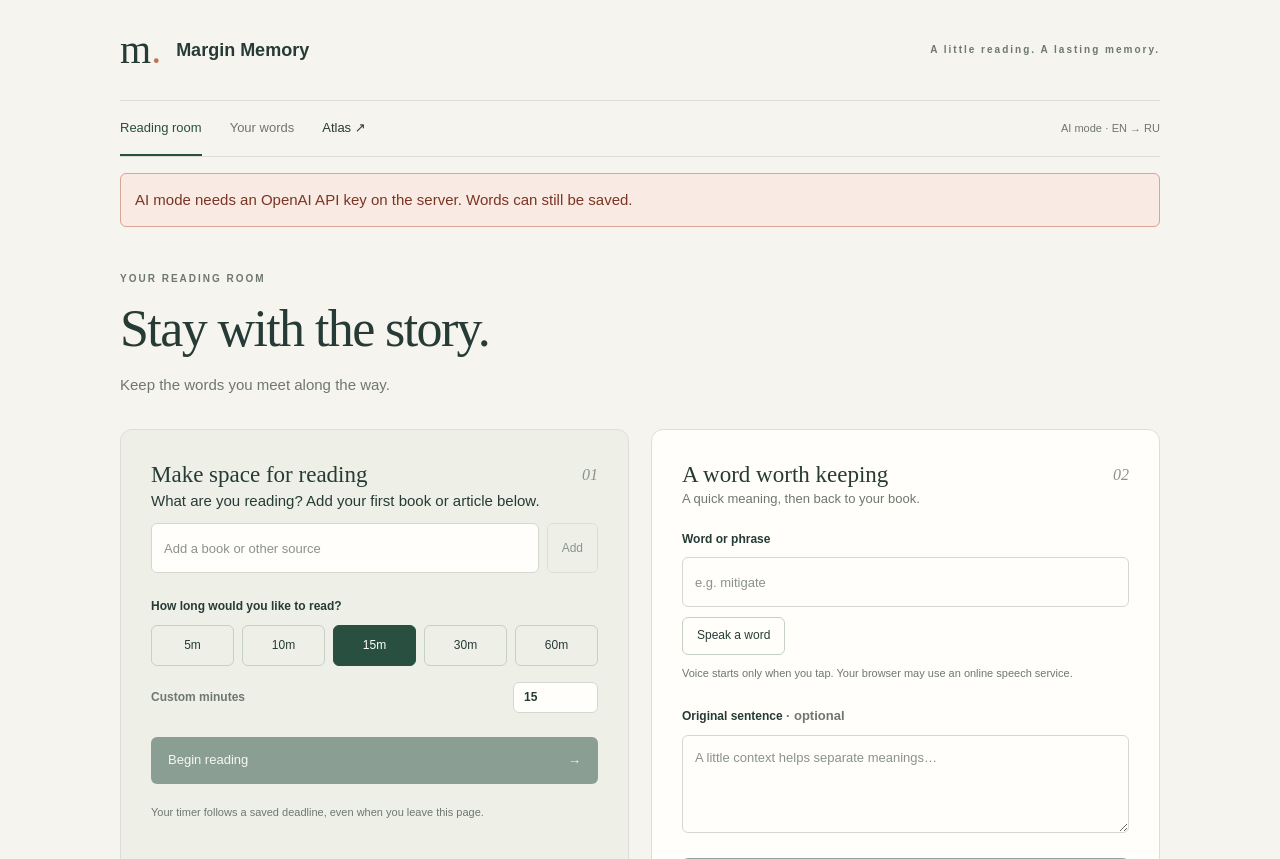
shows configuration guidance and a safe failure message while retaining the capture
Expected: the text "AI mode needs an OpenAI API key on the server. Words can still be saved." is shown, top-left (120, 173), bottom-right (1160, 227)
Type "resilient" into the field labelled "Word or phrase". click: x=906, y=582
box: top-left (682, 558), bottom-right (1129, 608)
(page scrolled)
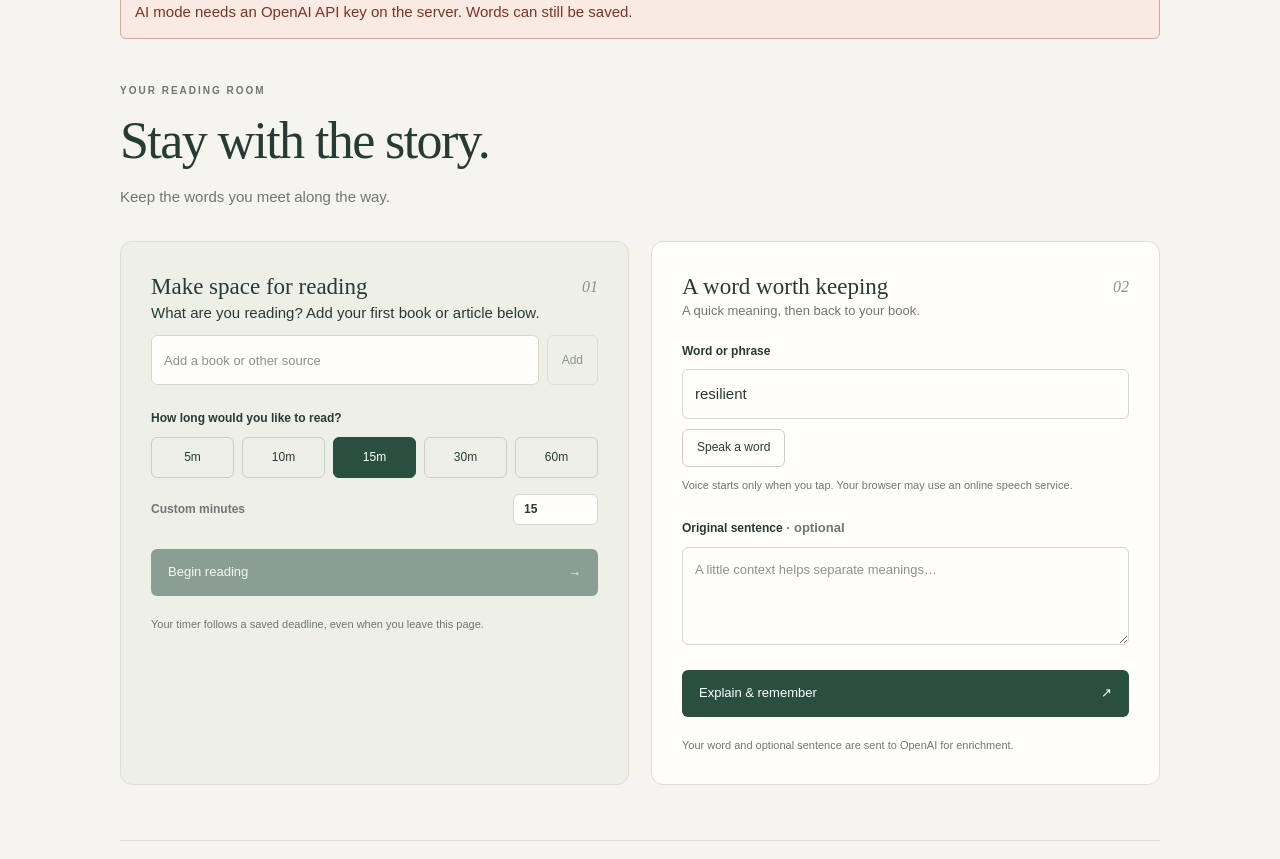
Click the button "Explain & remember ↗". click: x=758, y=693
box: top-left (682, 670), bottom-right (1129, 717)
(page scrolled)
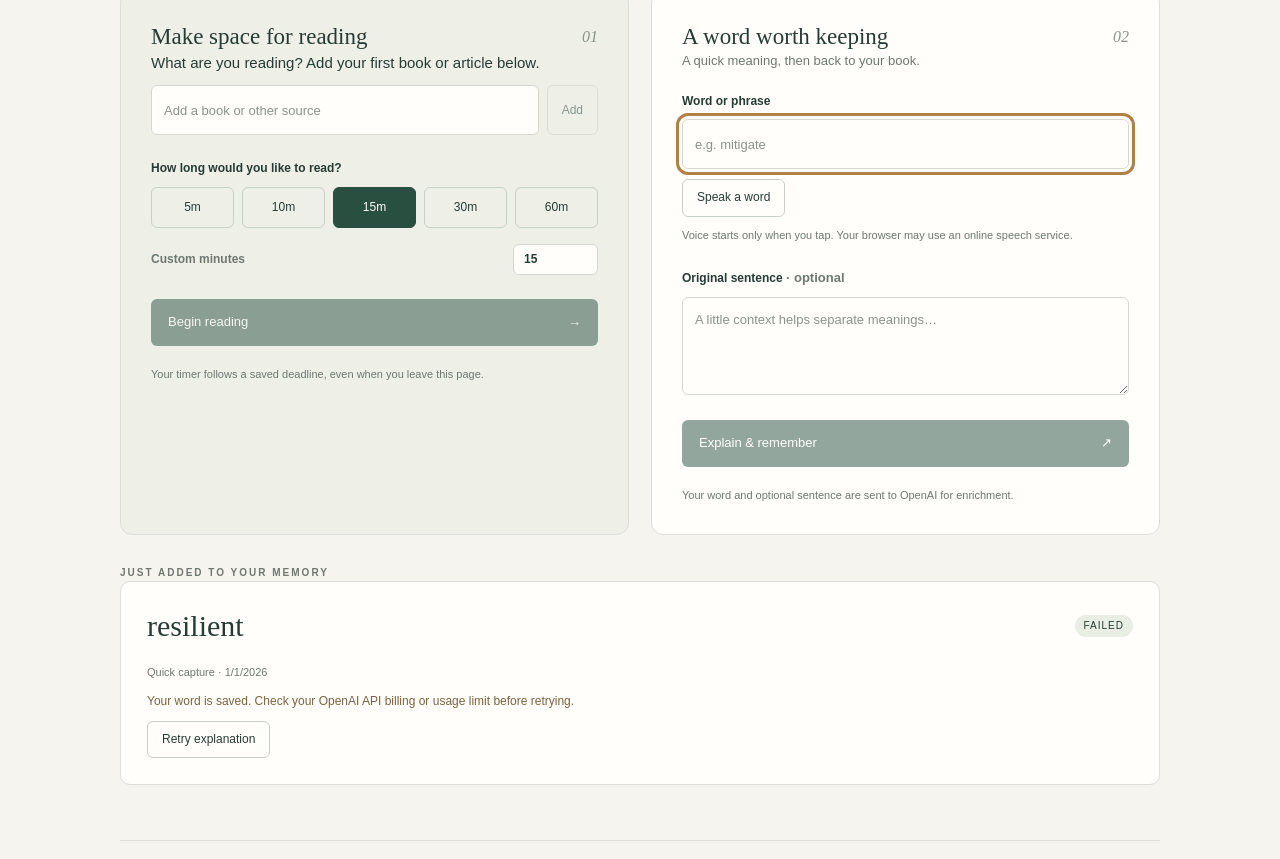
Expected: the text "Your word is saved. Check your OpenAI API billing or usage limit before retrying." is shown, top-left (147, 694), bottom-right (574, 708)
Expected: the heading "resilient" is shown, top-left (147, 608), bottom-right (244, 644)
Expected: the button "Retry explanation" is shown, top-left (147, 721), bottom-right (270, 758)
